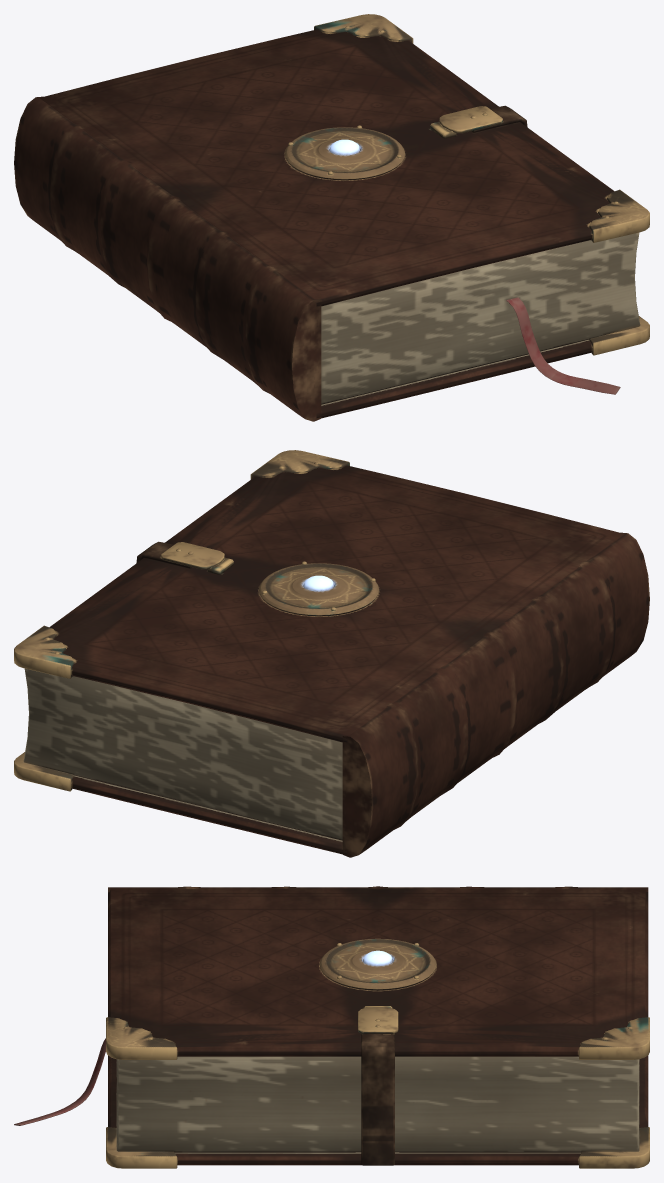
Rendered from SM_Grimoire.fbx.
The picture shows the model from 3 angles, top to bottom: view 1: azimuth 30°, elevation 25°; view 2: azimuth 150°, elevation 25°; view 3: azimuth 270°, elevation 25°; orthographic projection. The views are drawn at different scales.
Parts seen in each view (by area): view 1: SM_Grimoire; view 2: SM_Grimoire; view 3: SM_Grimoire.
Boxes of the visible parts, x1,y1,x2,y2 form: SM_Grimoire: (14,14,649,421); SM_Grimoire: (14,450,649,857); SM_Grimoire: (14,886,649,1168).
Bounding box in the file's own units: 0.1861 × 0.0662 × 0.2837.
Materials: 1 (1 with a texture image).
